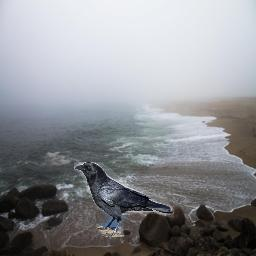Crow: (74, 162, 174, 237)
